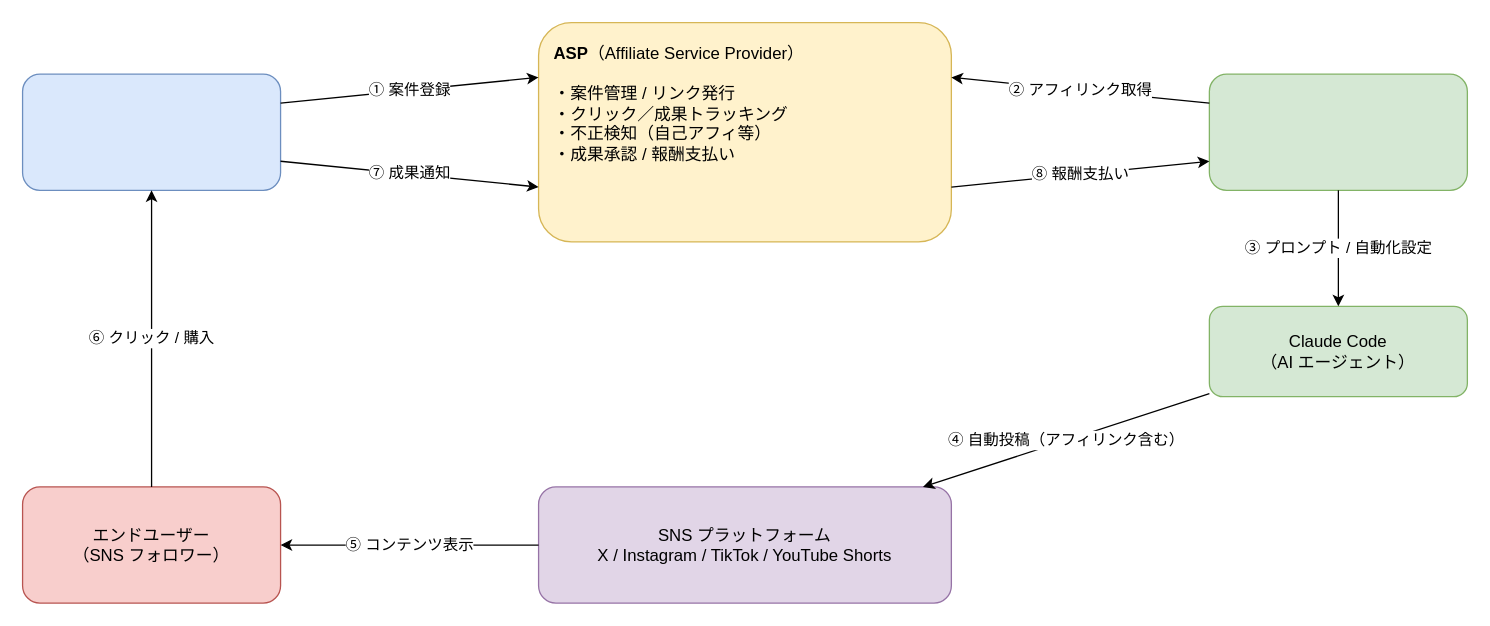
This 1490x626 diagram has some shape labels left out. Each missing label, with the box of its shape:
メディア運営者 （Claude Code 運用者）: (1208, 73, 1467, 190)
広告主（Merchant） 商品・サービス提供者: (21, 73, 281, 190)
